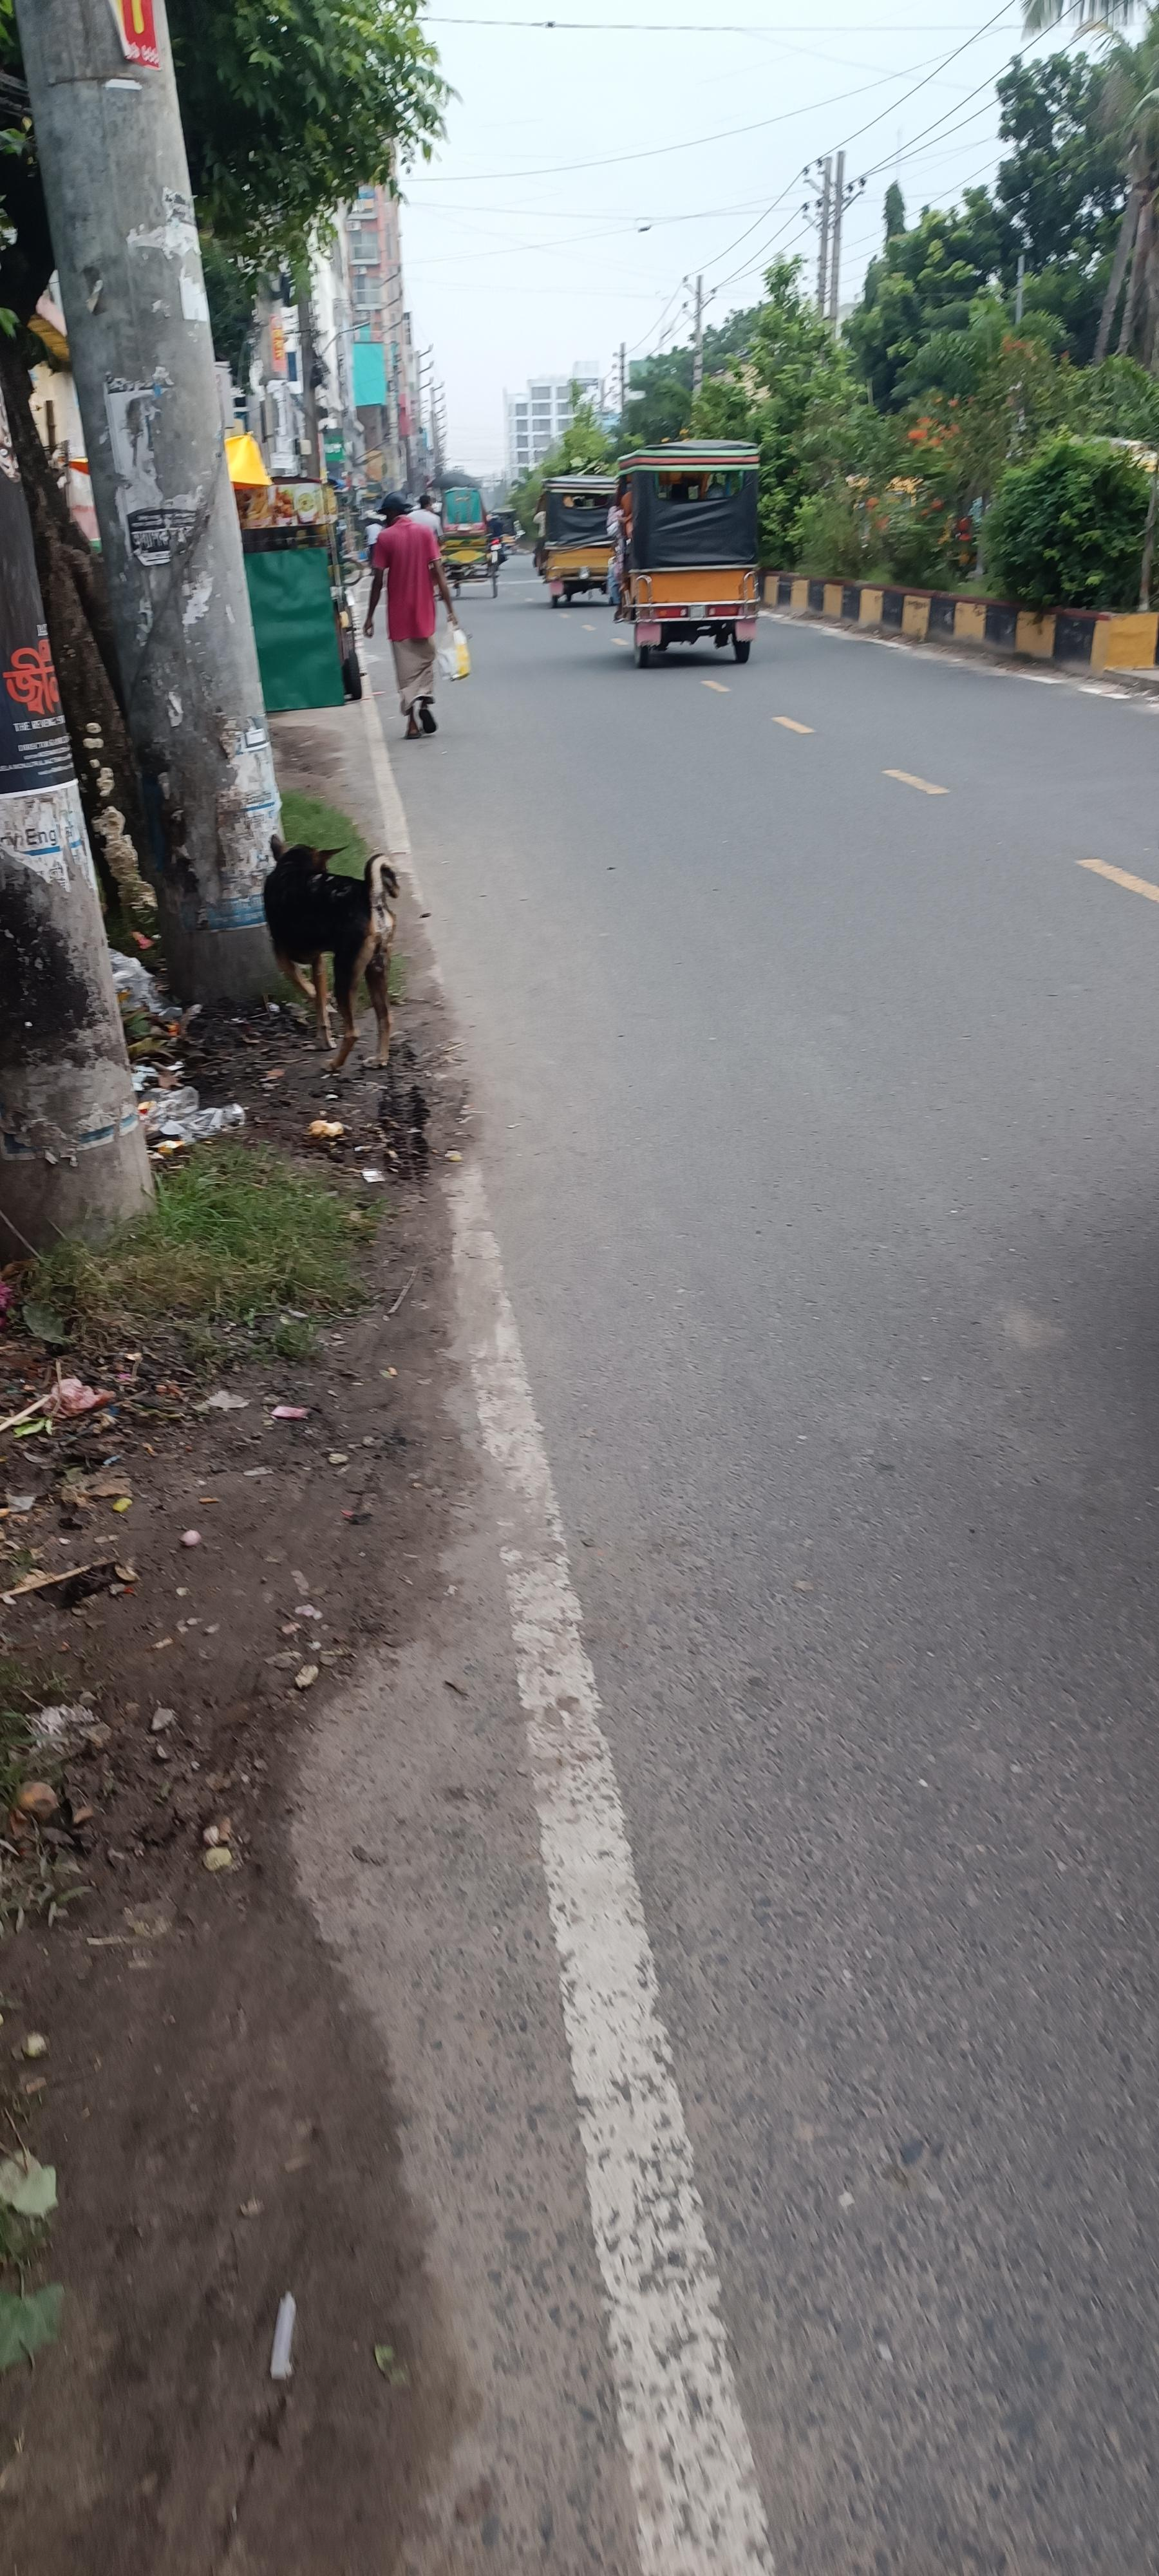Crosswalk: (261, 833, 402, 1074)
Garbage-bin: (363, 491, 458, 739)
Light-pole: (11, 2, 295, 1004)
Traffic-cone: (593, 399, 844, 741)
